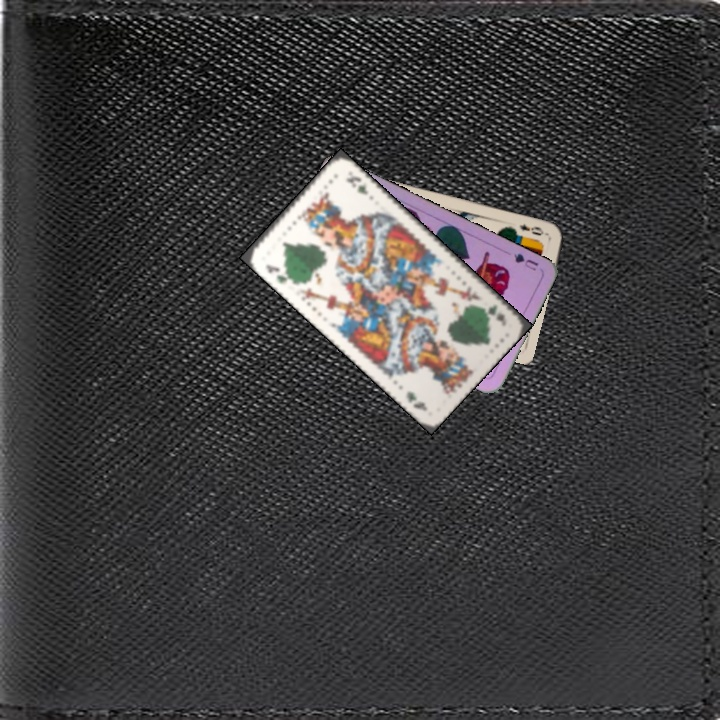EO: (515, 220, 550, 238)
GK: (477, 301, 509, 329), (261, 260, 294, 286)
GU: (510, 249, 541, 274)
